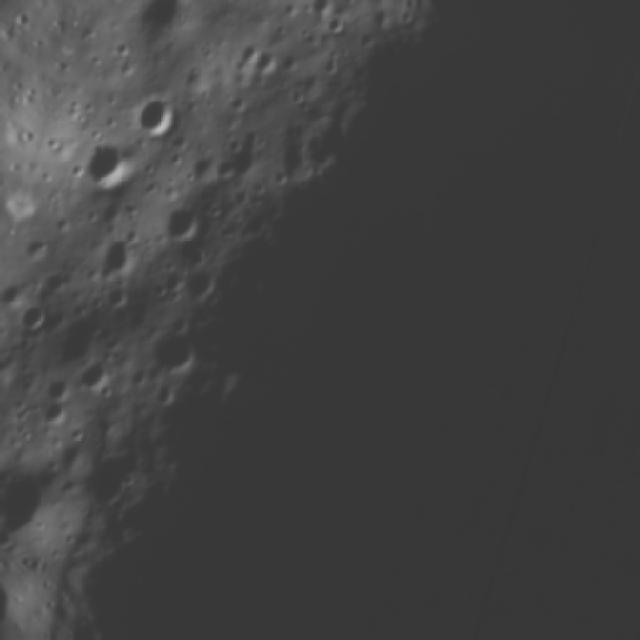crater: (0, 445, 71, 558), (122, 0, 209, 60), (73, 132, 138, 199), (144, 321, 208, 382), (86, 225, 146, 286), (128, 88, 186, 146), (155, 196, 217, 250), (178, 259, 225, 306), (73, 355, 116, 399), (15, 298, 56, 344), (236, 44, 282, 81), (43, 368, 79, 407), (38, 398, 77, 433), (315, 7, 351, 42), (301, 0, 341, 25)
